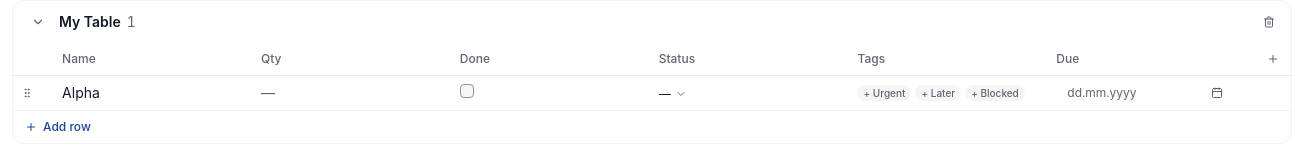
NamedTable text cell › Escape cancels editing without committing
The width and height of the screenshot is (1304, 161).
Double-click the text "Alpha" at (81, 92), box [62,84,100,100]
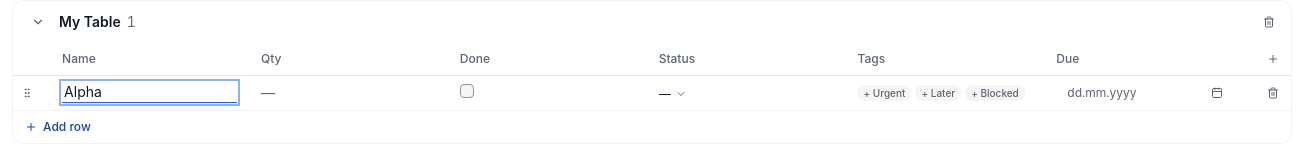
Replace the text in the field showing "Alpha" with "Zeta" at (150, 92), box [62,82,237,103]
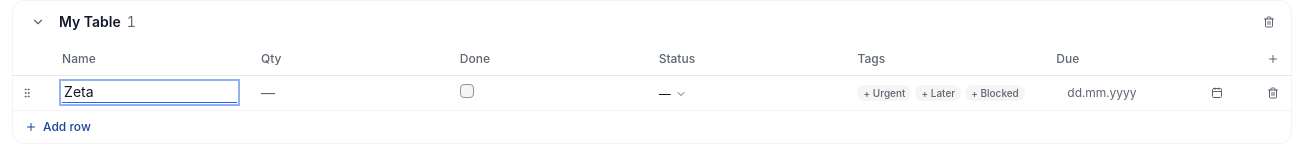
Press Escape in the field showing "Alpha", box [62,82,237,103]
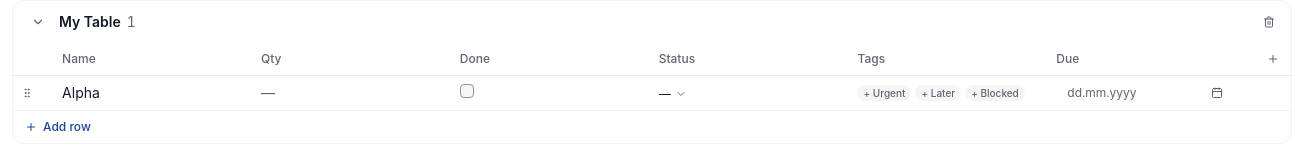
Now the text "Alpha" is shown, box [62,84,100,100]
